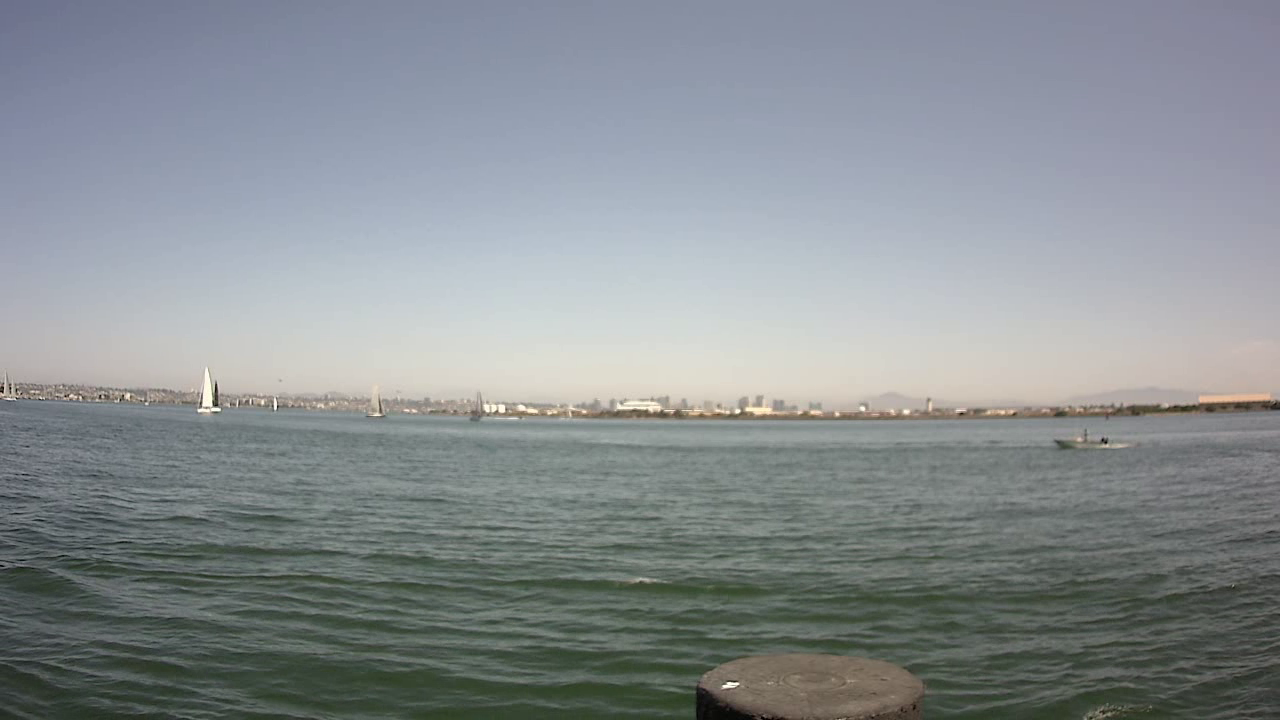target: (1051, 423, 1116, 454)
